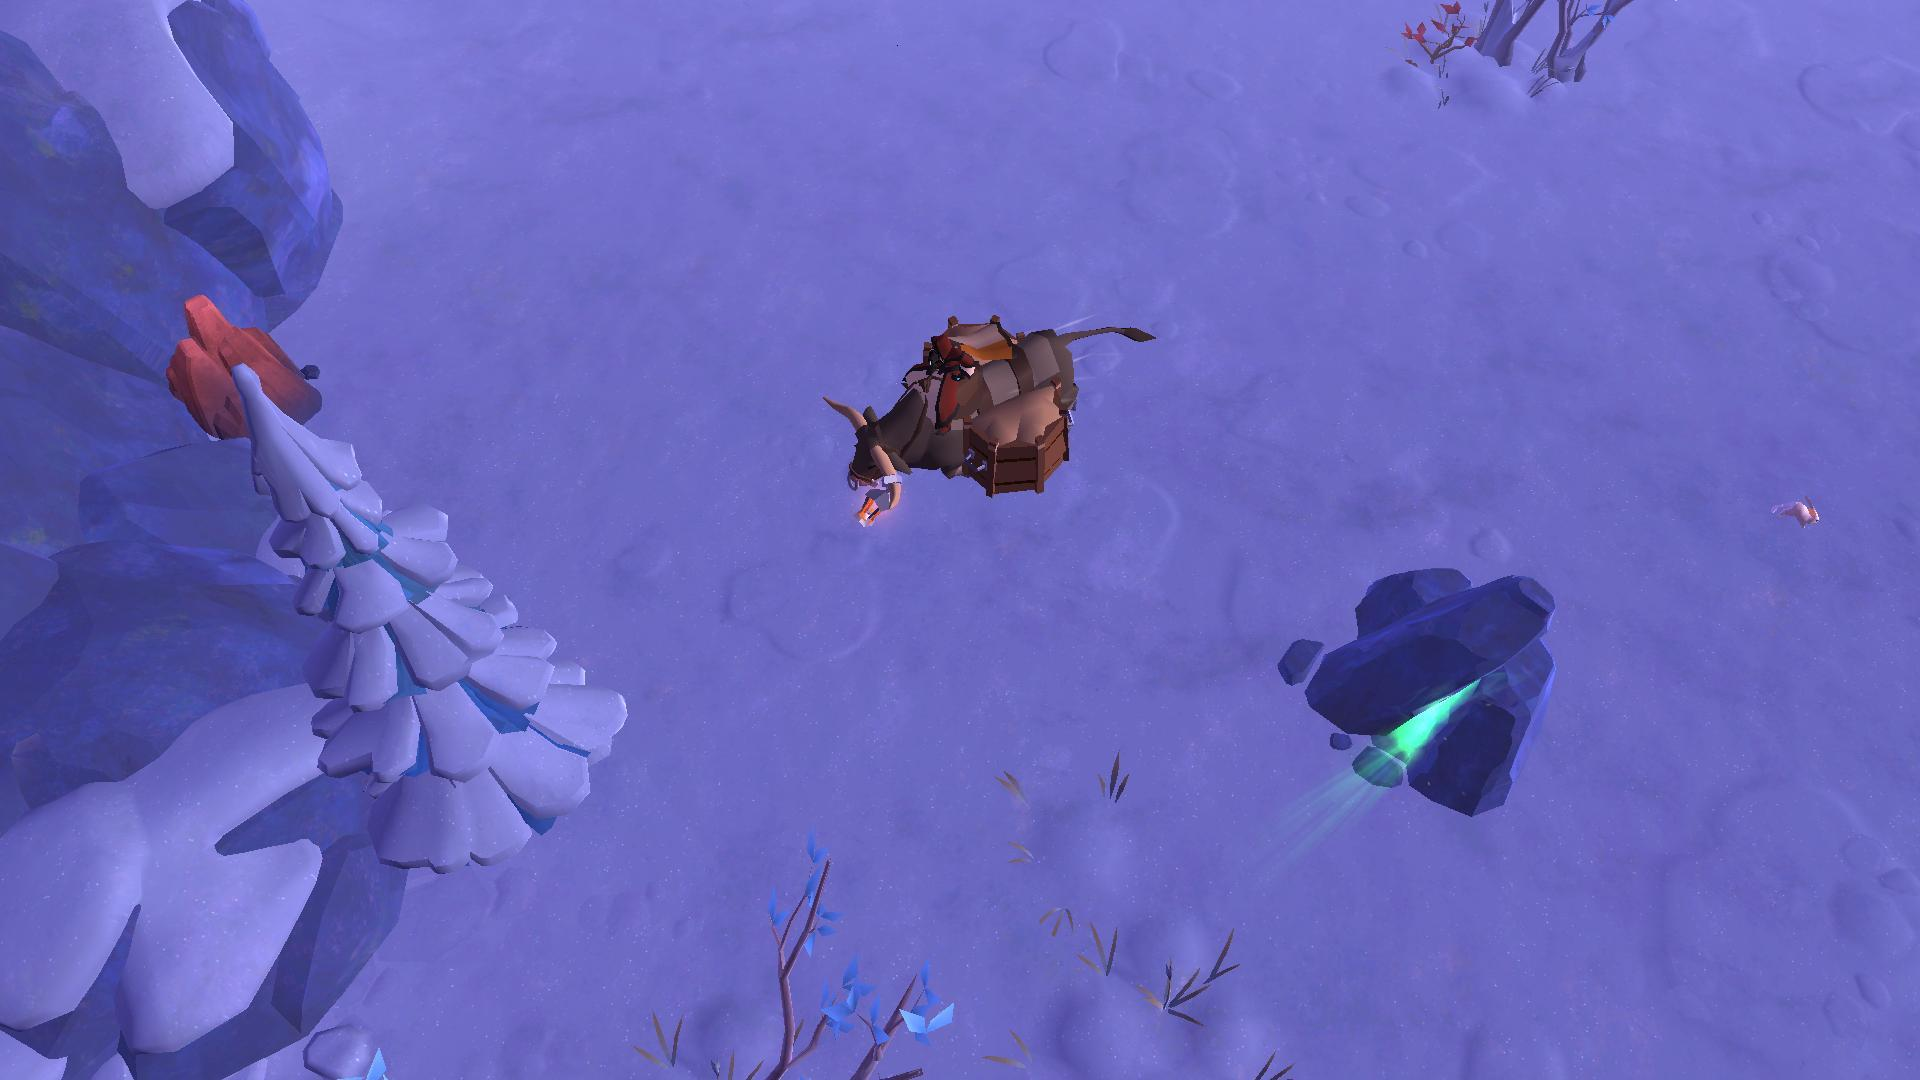rock_t5: (156, 293, 326, 443)
